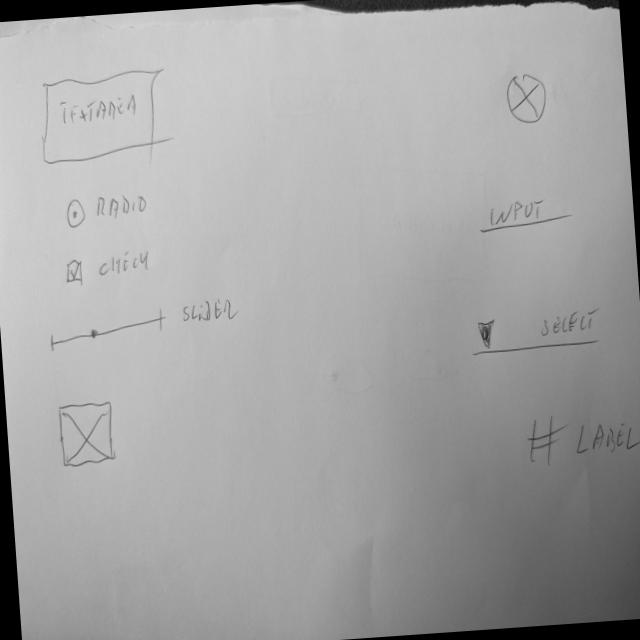checkbox: (64, 245, 153, 285)
image: (57, 398, 120, 471), (504, 68, 550, 127)
input: (477, 191, 577, 239)
label: (524, 407, 640, 470)
radio: (64, 192, 151, 231)
slider: (45, 305, 169, 354)
